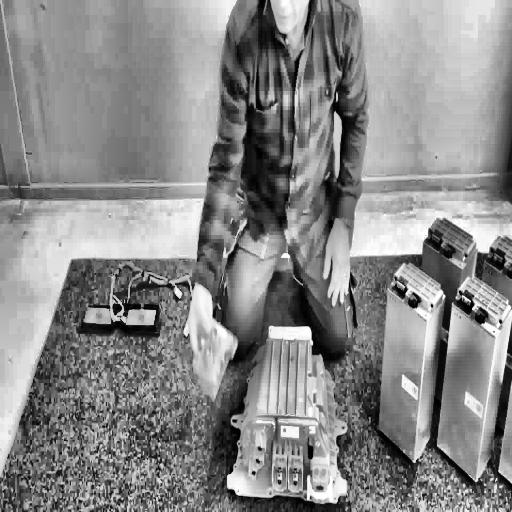battery_module: (437, 273, 512, 481), (378, 259, 446, 463), (423, 214, 478, 269)
bms_unit: (225, 324, 349, 502)
connector: (194, 314, 239, 400)
low_volt_cable: (104, 252, 198, 345)
